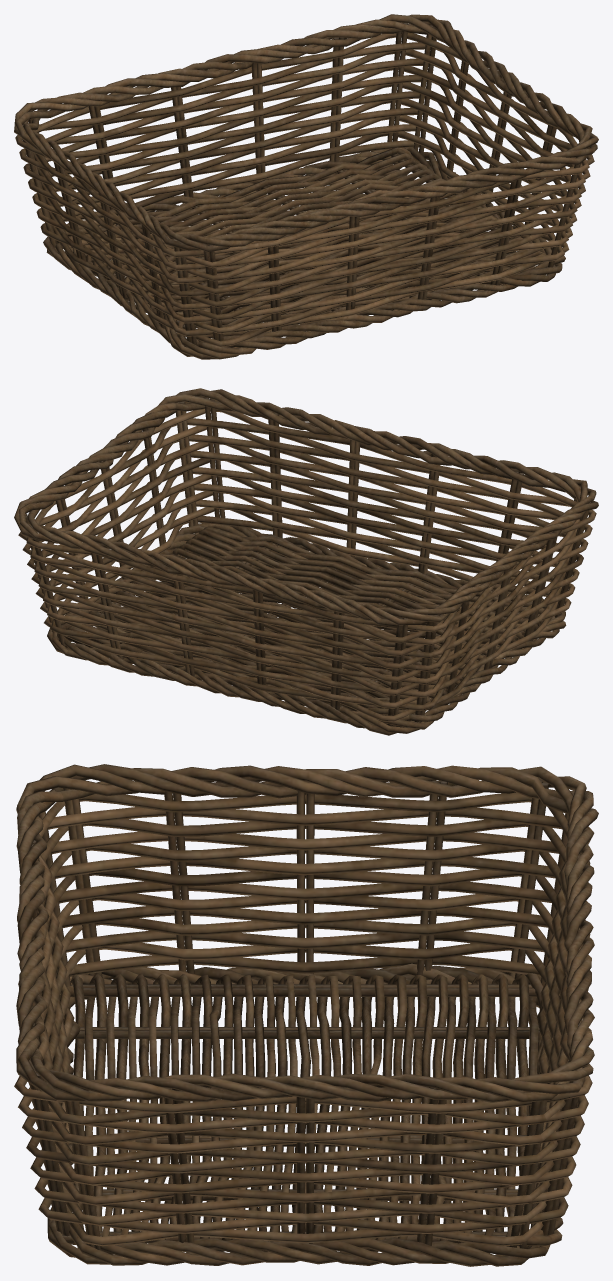
Rendered from wicker_basket_01.glb.
The picture shows the model from 3 angles, top to bottom: view 1: azimuth 30°, elevation 25°; view 2: azimuth 150°, elevation 25°; view 3: azimuth 270°, elevation 25°; orthographic projection. The views are drawn at different scales.
Parts seen in each view (by area): view 1: wicker_basket_01; view 2: wicker_basket_01; view 3: wicker_basket_01.
Part boxes in pixels (bbox=[...]): wicker_basket_01: bbox=[14, 14, 598, 359]; wicker_basket_01: bbox=[14, 388, 598, 735]; wicker_basket_01: bbox=[14, 764, 598, 1266].
Bounding box in the file's own units: 0.3832 × 0.1174 × 0.295.
Materials: 1 (1 with a texture image).
